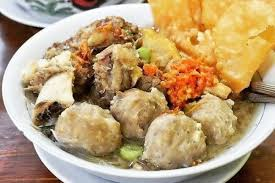bakso: (41, 35, 246, 171)
